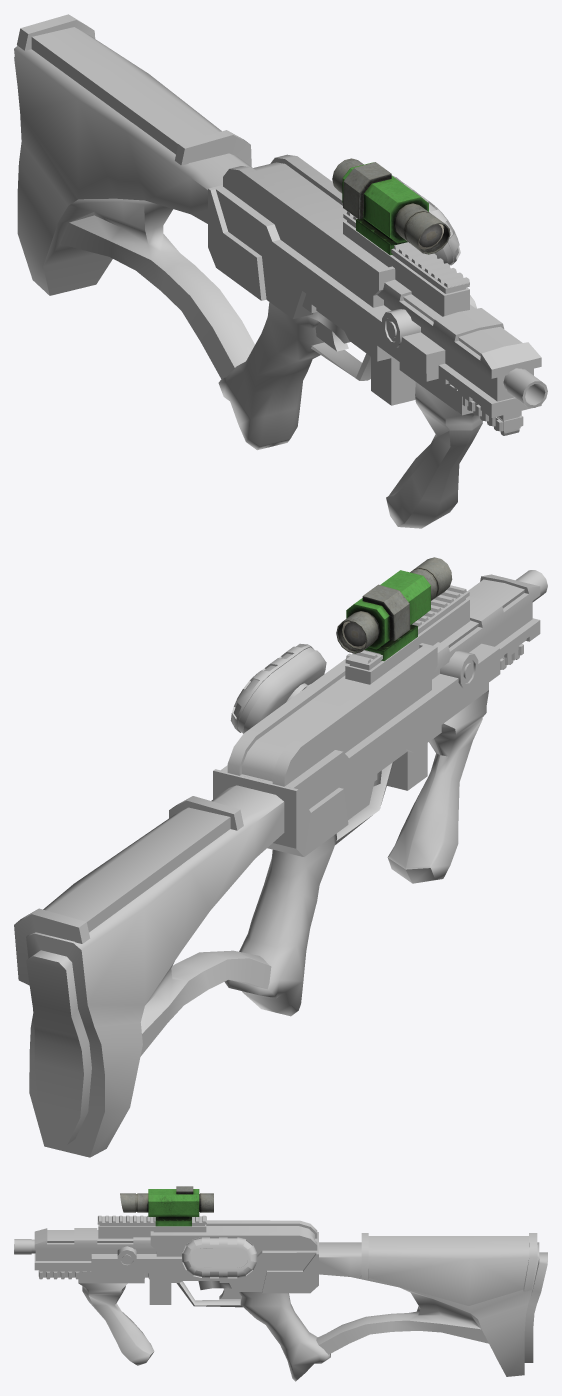
The model's file is Weapon_SMG.fbx.
The picture shows the model from 3 angles, top to bottom: view 1: azimuth 30°, elevation 25°; view 2: azimuth 150°, elevation 25°; view 3: azimuth 270°, elevation 25°; orthographic projection. The views are drawn at different scales.
Parts seen in each view (by area): view 1: polySurface197, wpn_acc_scope:polySurface143; view 2: polySurface197, wpn_acc_scope:polySurface143; view 3: polySurface197, wpn_acc_scope:polySurface143.
Boxes of the visible parts, x1,y1,x2,y2 form: polySurface197: [14, 14, 547, 528]; wpn_acc_scope:polySurface143: [332, 158, 450, 255]; polySurface197: [14, 570, 547, 1157]; wpn_acc_scope:polySurface143: [336, 557, 452, 661]; polySurface197: [14, 1215, 547, 1381]; wpn_acc_scope:polySurface143: [120, 1186, 213, 1226].
Size of the model in its own units: 4.4 by 11.05 by 28.38.
